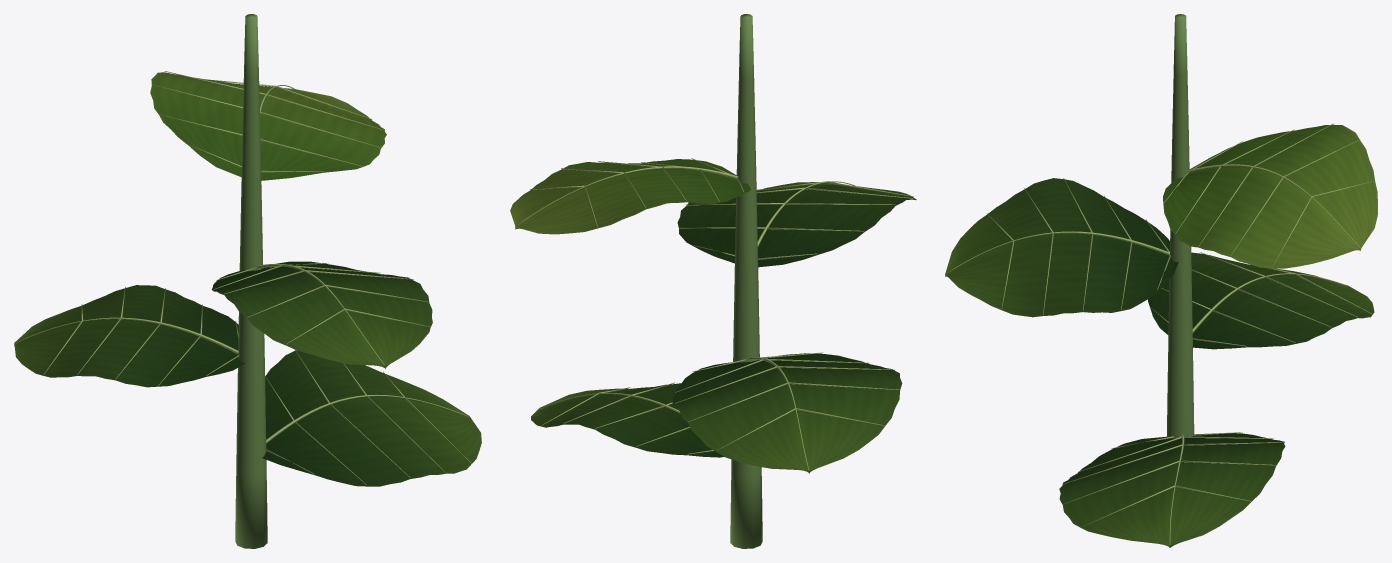
Rendered from sunflower-03.glb.
3 views of the same model, side by side, from view 1: azimuth 30°, elevation 25°; view 2: azimuth 150°, elevation 25°; view 3: azimuth 270°, elevation 25° (orthographic). The views are drawn at different scales.
Visible parts, largest first — view 1: sunflower_stage_03_leaf_veins.004, sunflower_stage_03_young_leaf.004, sunflower_stage_03_stem_fibres.004, sunflower_stage_03_raised_midveins.004; view 2: sunflower_stage_03_leaf_veins.004, sunflower_stage_03_young_leaf.004, sunflower_stage_03_stem_fibres.004, sunflower_stage_03_raised_midveins.004; view 3: sunflower_stage_03_leaf_veins.004, sunflower_stage_03_young_leaf.004, sunflower_stage_03_stem_fibres.004, sunflower_stage_03_raised_midveins.004.
Boxes of the visible parts, x1,y1,x2,y2 form: sunflower_stage_03_leaf_veins.004: (14, 261, 481, 486); sunflower_stage_03_young_leaf.004: (150, 72, 386, 180); sunflower_stage_03_stem_fibres.004: (235, 14, 267, 548); sunflower_stage_03_raised_midveins.004: (14, 71, 471, 485); sunflower_stage_03_leaf_veins.004: (531, 182, 916, 473); sunflower_stage_03_young_leaf.004: (510, 159, 750, 234); sunflower_stage_03_stem_fibres.004: (730, 14, 762, 548); sunflower_stage_03_raised_midveins.004: (515, 158, 913, 470); sunflower_stage_03_leaf_veins.004: (945, 178, 1374, 547); sunflower_stage_03_young_leaf.004: (1163, 124, 1377, 268); sunflower_stage_03_stem_fibres.004: (1167, 14, 1194, 438); sunflower_stage_03_raised_midveins.004: (945, 123, 1374, 544).
Size of the model in its own units: 0.1092 by 0.1418 by 0.1103.
Materials: 4 (2 with a texture image).
